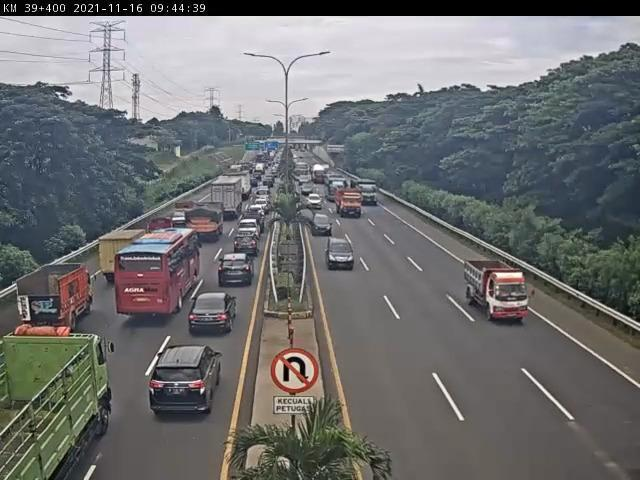bus: (116, 231, 199, 316)
car: (151, 348, 220, 419), (189, 296, 235, 339), (217, 256, 255, 288), (327, 240, 356, 271), (234, 233, 258, 257), (310, 214, 332, 237), (245, 210, 266, 232), (238, 220, 260, 238)
truck: (1, 335, 117, 480), (15, 265, 95, 330), (464, 261, 528, 325), (99, 230, 148, 285), (185, 200, 226, 239), (213, 177, 243, 217)
